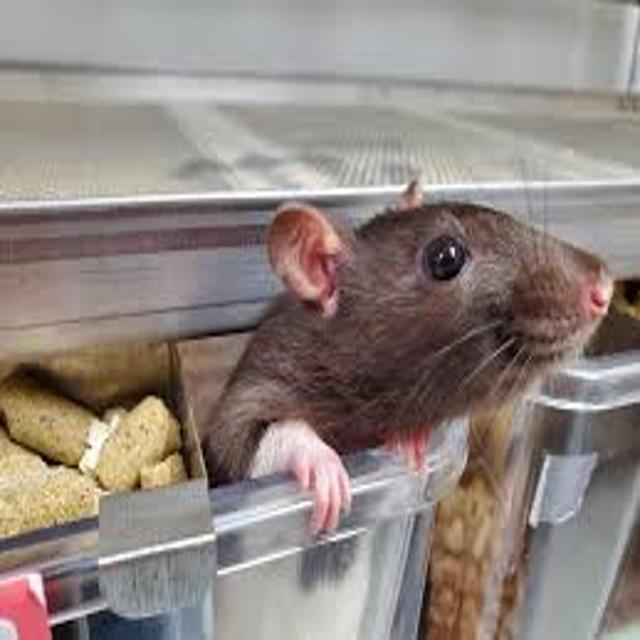rat: (202, 173, 618, 542)
